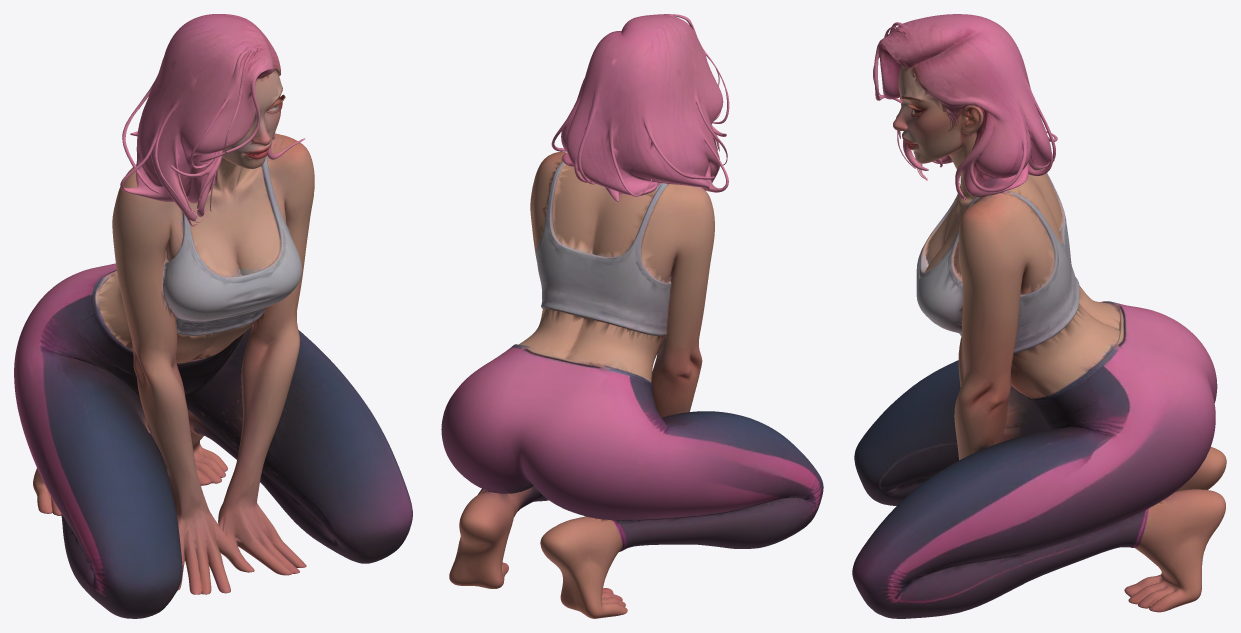
Rendered from leggings_girl.glb.
The picture shows the model from 3 angles, left to right: view 1: azimuth 30°, elevation 25°; view 2: azimuth 150°, elevation 25°; view 3: azimuth 270°, elevation 25°; orthographic projection. The views are drawn at different scales.
Parts seen in each view (by area): view 1: Object_4; view 2: Object_4; view 3: Object_4.
Part boxes in pixels (x1,y1,x2,y2): Object_4: (14,14,412,618); Object_4: (441,14,823,618); Object_4: (852,14,1226,618).
Size of the model in its own units: 0.5902 by 0.9929 by 0.6196.
1 material, 1 textured.
